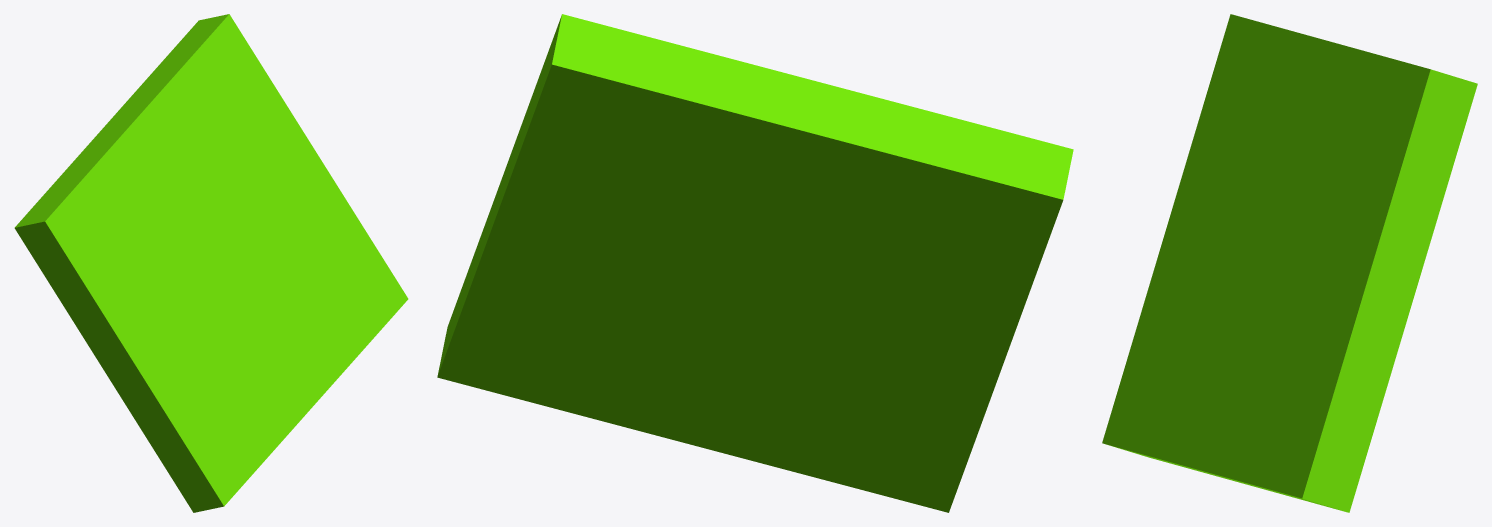
File: square.glb
3 views of the same model, side by side, from view 1: azimuth 30°, elevation 25°; view 2: azimuth 150°, elevation 25°; view 3: azimuth 270°, elevation 25° (orthographic). The views are drawn at different scales.
Parts seen in each view (by area): view 1: Plane; view 2: Plane; view 3: Plane.
Part boxes in pixels (<box>): Plane: <box>14,14,408,512</box>; Plane: <box>437,14,1073,512</box>; Plane: <box>1102,14,1477,512</box>.
Size of the model in its own units: 3.02 by 2.72 by 1.93.
